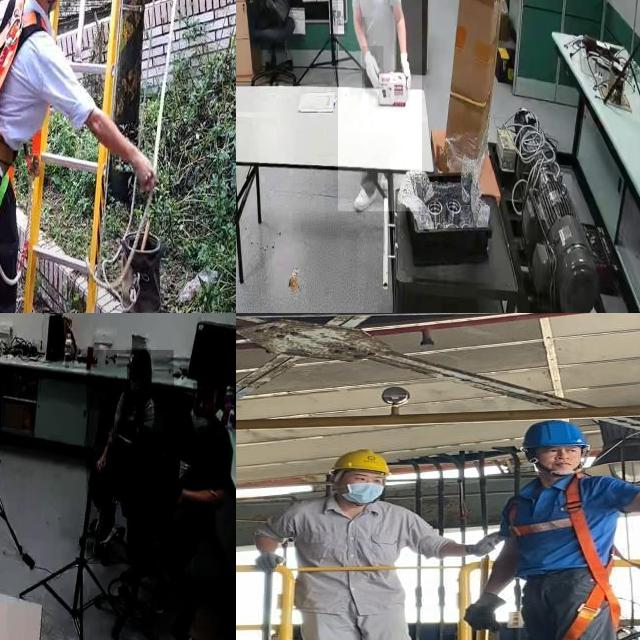Harness: (509, 476, 621, 640), (0, 0, 48, 279)
face_mask: (127, 365, 143, 403)
face_nomask: (193, 383, 214, 420)
hand_glove: (362, 46, 384, 90), (394, 46, 414, 90)
hand_noglove: (94, 447, 108, 471)
head_nohelmet: (196, 362, 226, 384), (131, 348, 151, 363)
person: (160, 371, 236, 629), (86, 350, 174, 565), (337, 0, 422, 212)
shoes: (354, 173, 381, 216)
